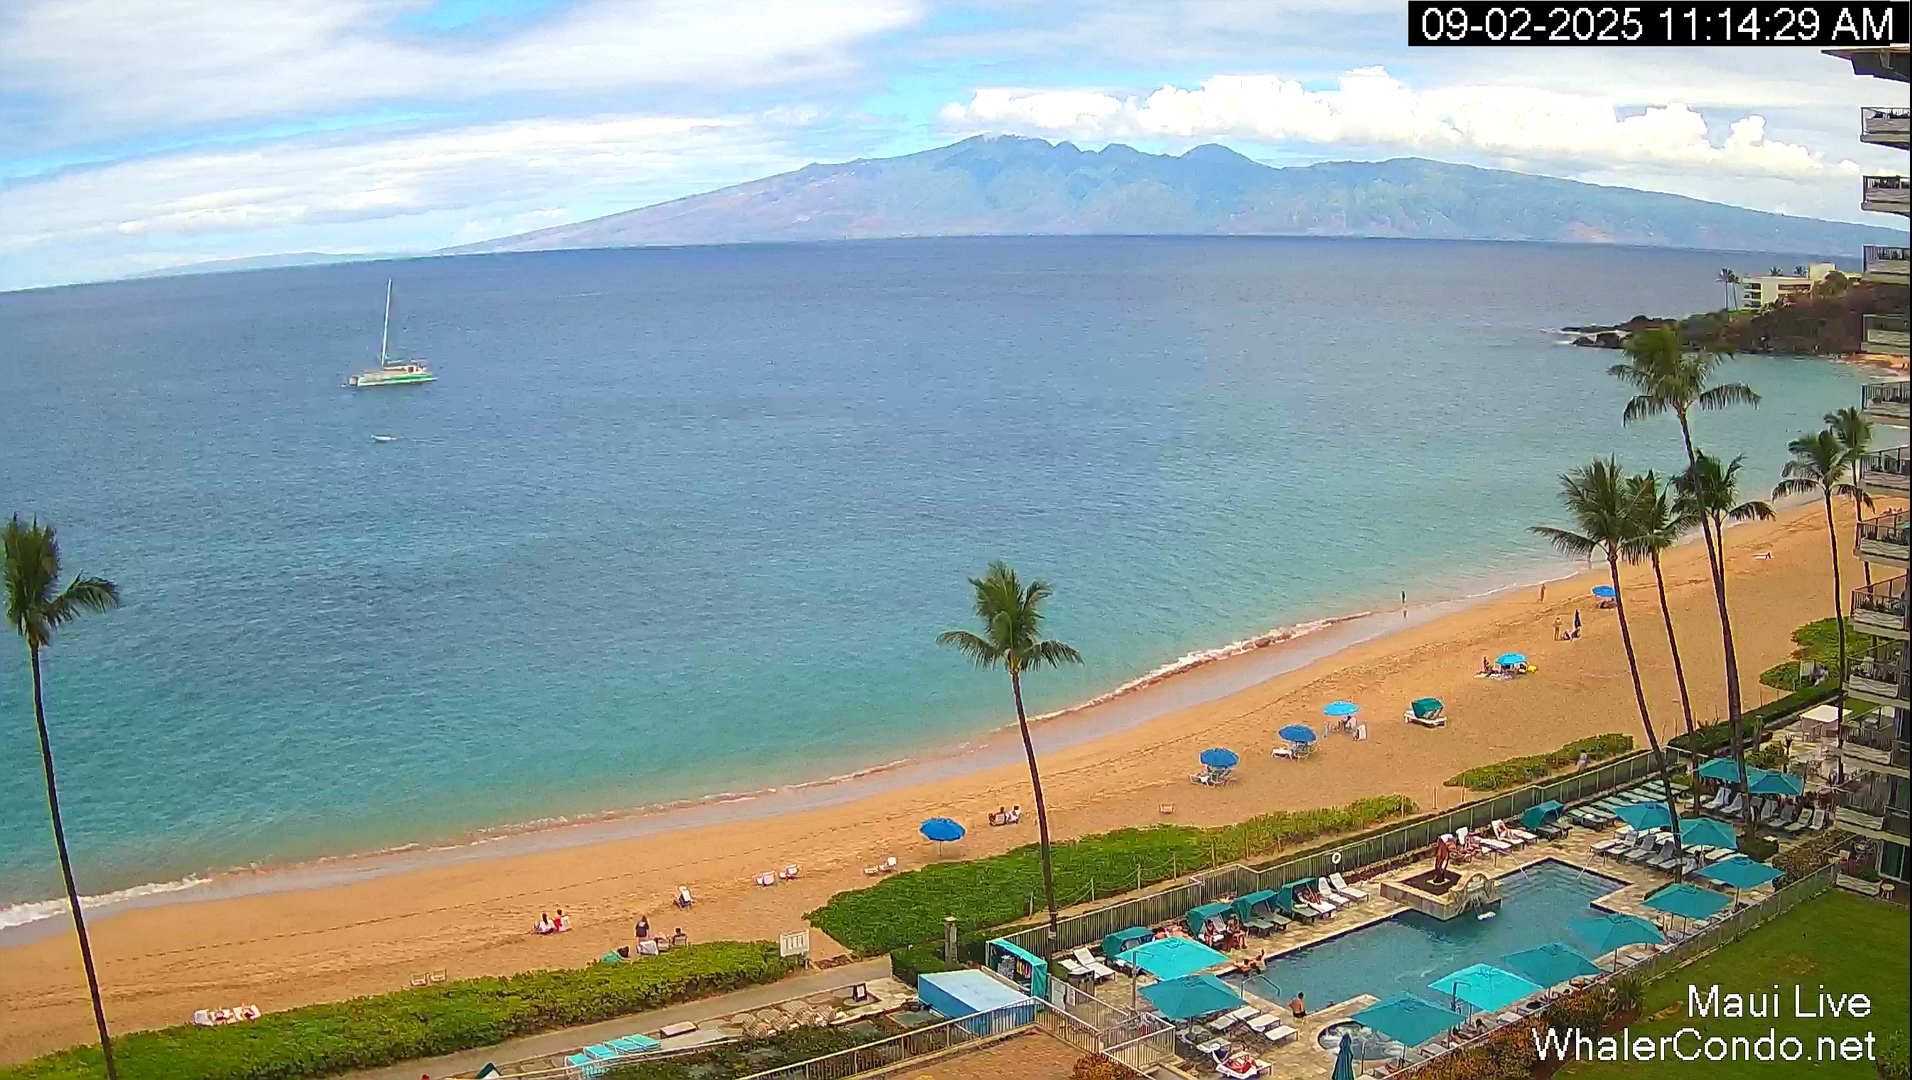boat: (343, 278, 436, 388), (476, 1032, 640, 1079)
person: (1288, 992, 1307, 1019), (533, 912, 555, 935), (553, 909, 570, 933), (669, 926, 687, 947), (635, 915, 650, 938), (1576, 749, 1589, 774), (1006, 805, 1023, 824), (1552, 616, 1563, 641), (1341, 714, 1356, 731), (634, 913, 640, 955), (1153, 927, 1168, 941), (1573, 609, 1582, 630), (1540, 583, 1546, 603), (998, 805, 1006, 817), (1401, 590, 1406, 604), (1403, 609, 1408, 618)
